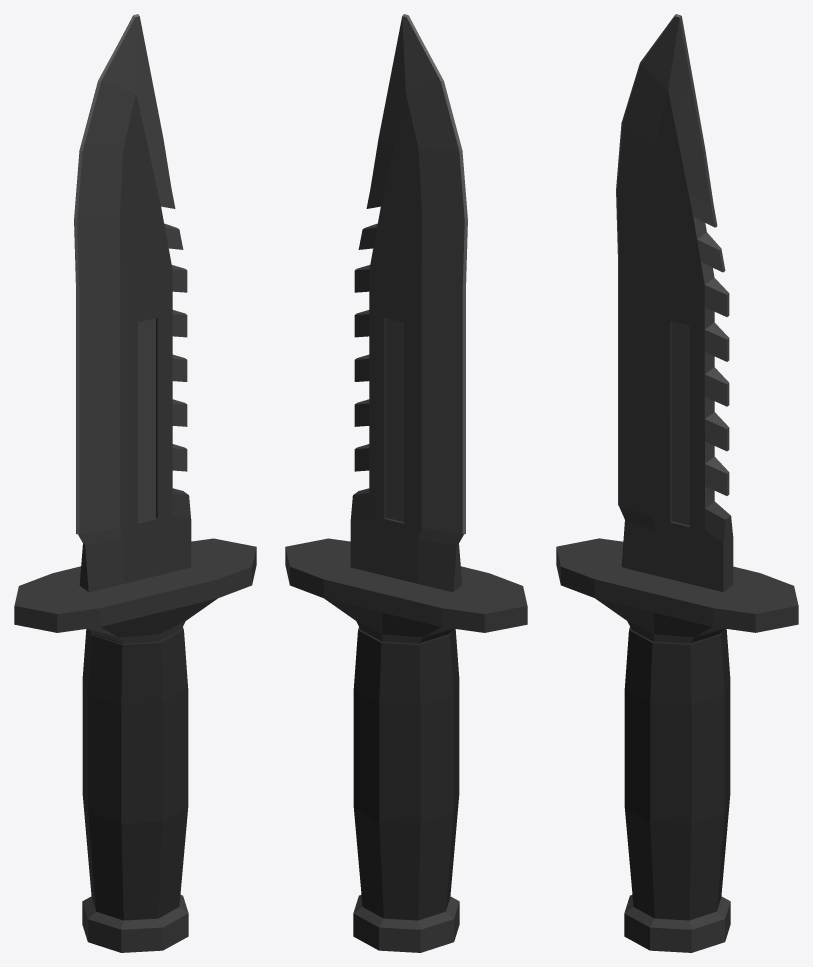
The model's file is Knife_02.fbx.
The picture shows the model from 3 angles, left to right: view 1: azimuth 30°, elevation 25°; view 2: azimuth 150°, elevation 25°; view 3: azimuth 330°, elevation 25°; orthographic projection.
Visible parts, largest first — view 1: Knife_02; view 2: Knife_02; view 3: Knife_02.
Boxes of the visible parts, <box> form: Knife_02: <box>14,14,256,952</box>; Knife_02: <box>285,14,527,952</box>; Knife_02: <box>556,14,798,952</box>.
Bounding box in the file's own units: 0.0981 × 0.3569 × 0.0386.
